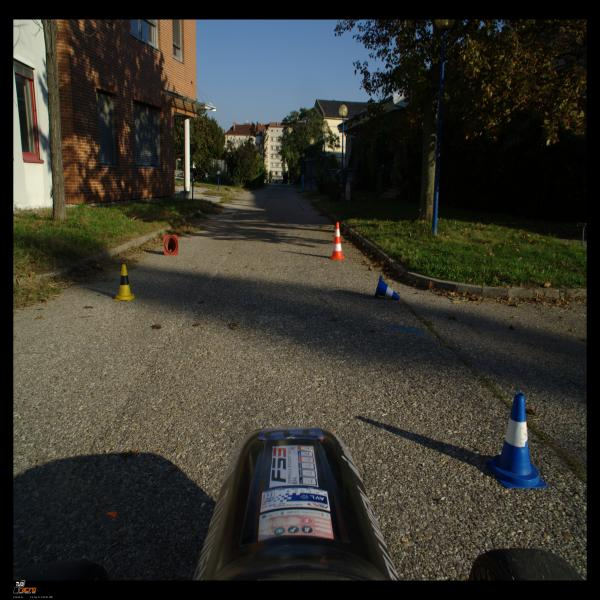blue_cone: (486, 392, 548, 488), (374, 275, 399, 301)
large_orange_cone: (330, 222, 345, 260), (163, 234, 178, 256)
yellow_cone: (113, 264, 136, 301)
